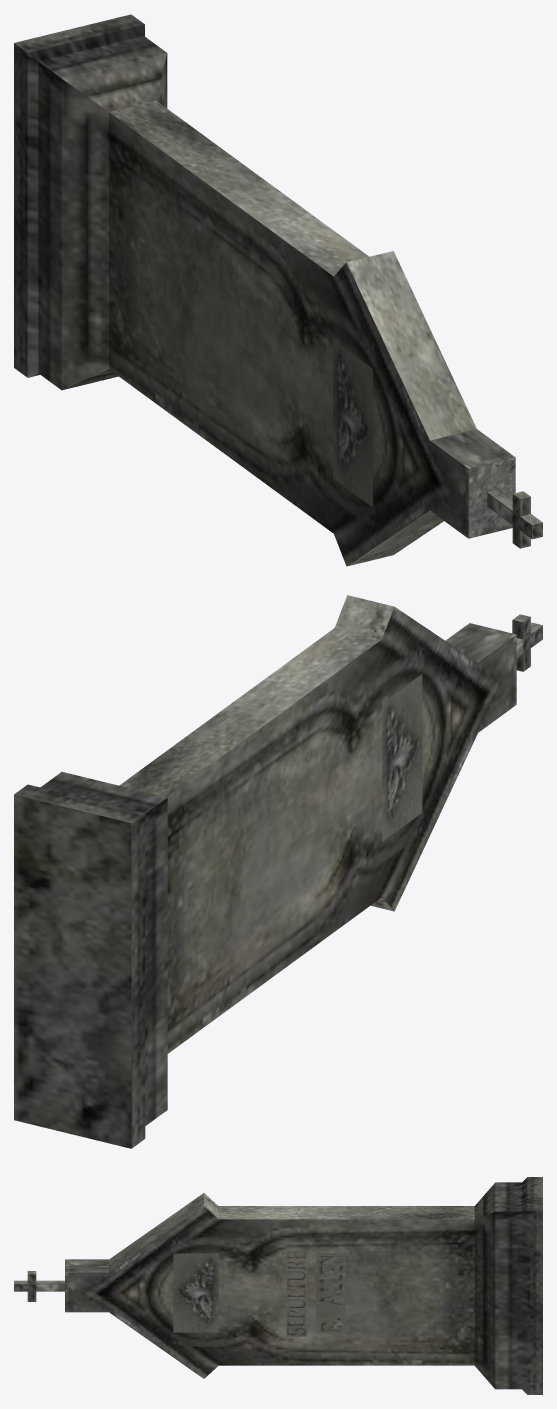
The model's file is prop_tombstone3.glb.
3 renders of one model, top to bottom at view 1: azimuth 30°, elevation 25°; view 2: azimuth 150°, elevation 25°; view 3: azimuth 270°, elevation 25°, orthographic. The views are drawn at different scales.
Size of the model in its own units: 11 by 29.11 by 75.42.
1 material, 1 textured.
